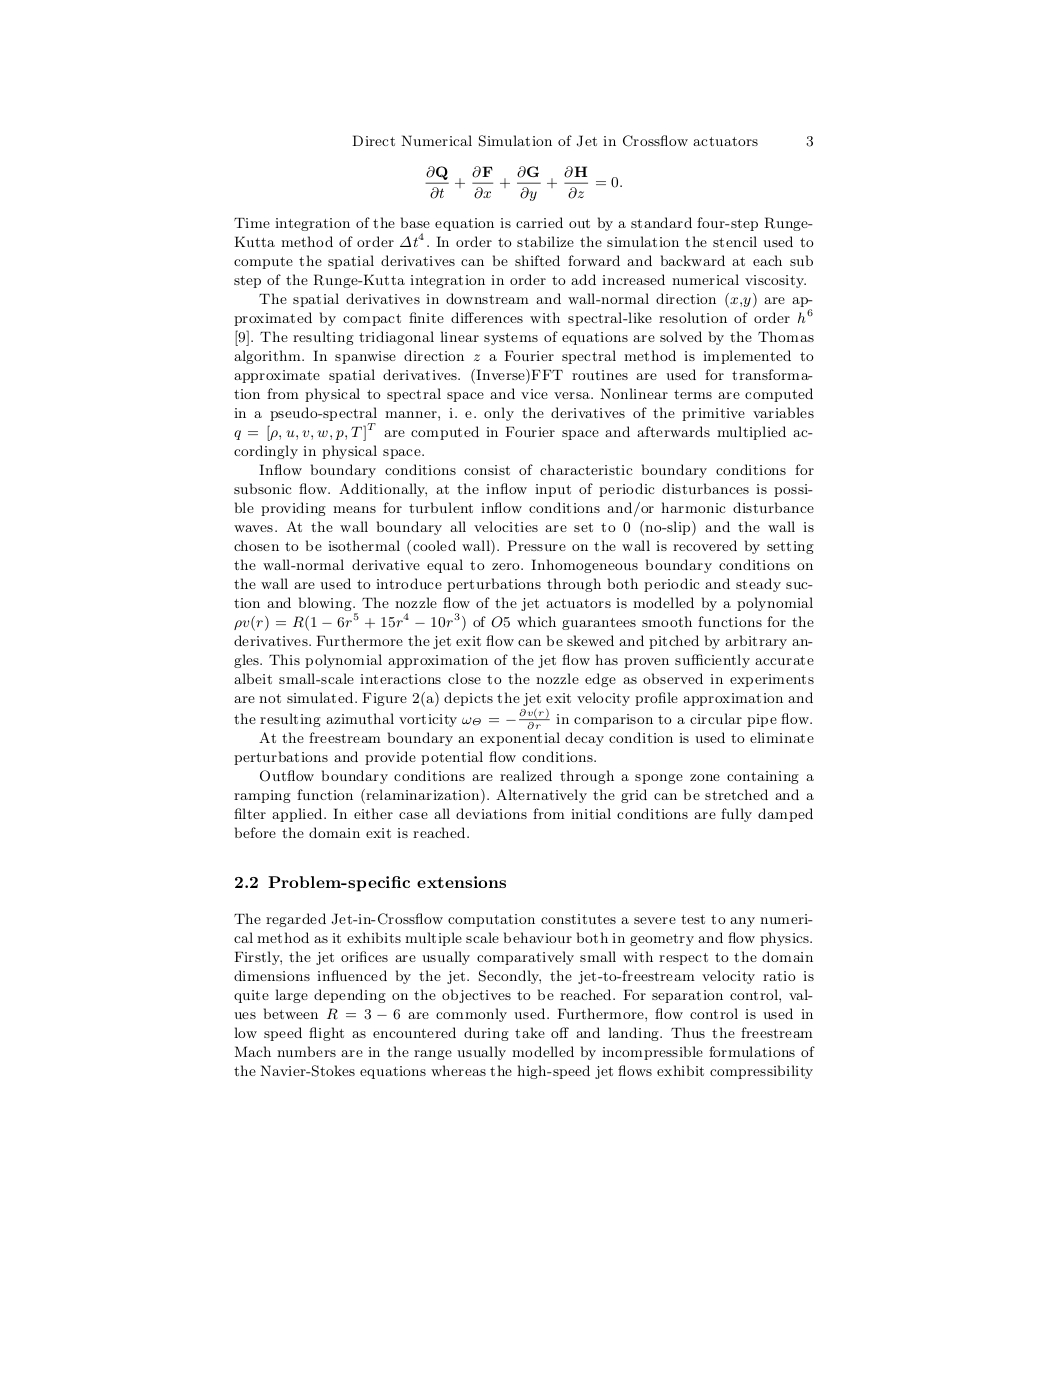formula: (425, 165, 621, 201)
